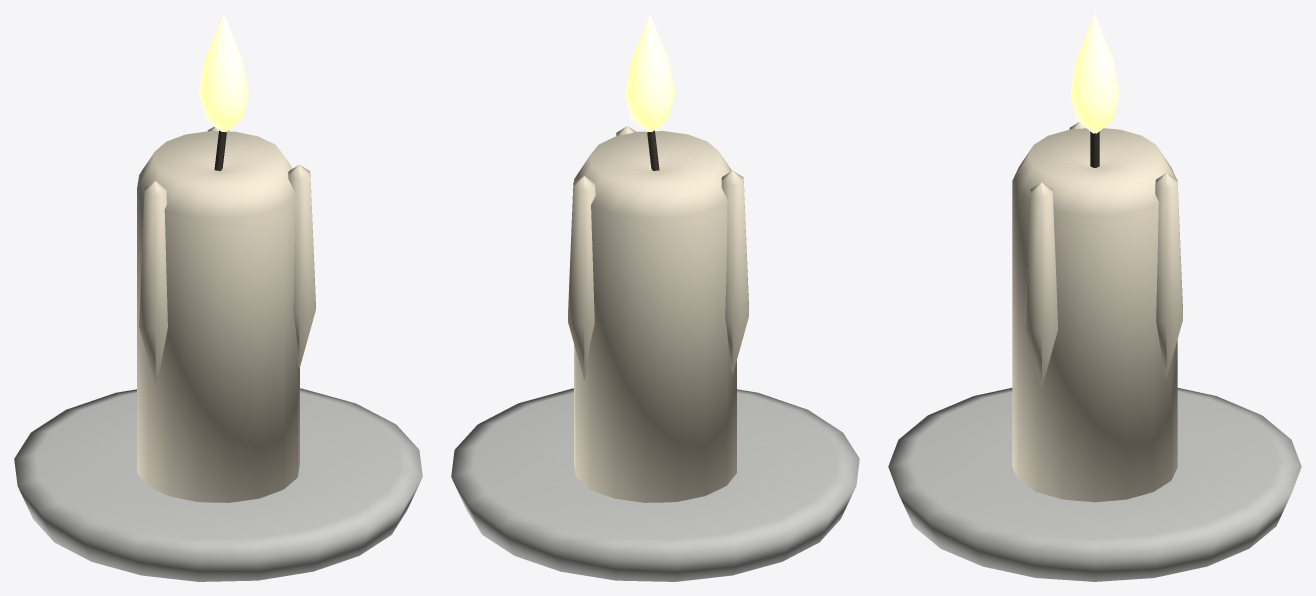
File: tavern_candle.glb
The picture shows the model from 3 angles, left to right: view 1: azimuth 30°, elevation 25°; view 2: azimuth 150°, elevation 25°; view 3: azimuth 270°, elevation 25°; orthographic projection.
Visible parts, largest first — view 1: tavern_candle; view 2: tavern_candle; view 3: tavern_candle.
Part boxes in pixels (bbox=[...]): tavern_candle: bbox=[14, 14, 422, 581]; tavern_candle: bbox=[451, 14, 859, 581]; tavern_candle: bbox=[888, 14, 1301, 581].
Bounding box in the file's own units: 0.13 × 0.17 × 0.13.
